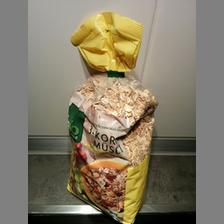Cerealien: (66, 70, 158, 222)
